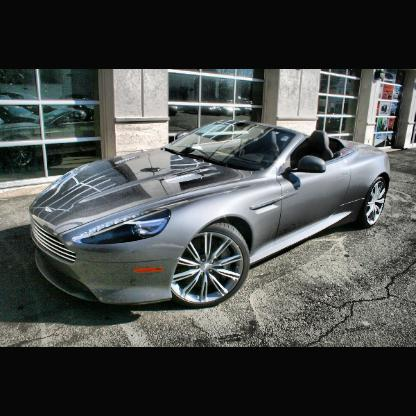Aston Martin Virage Convertible 2012: (29, 117, 390, 311)
